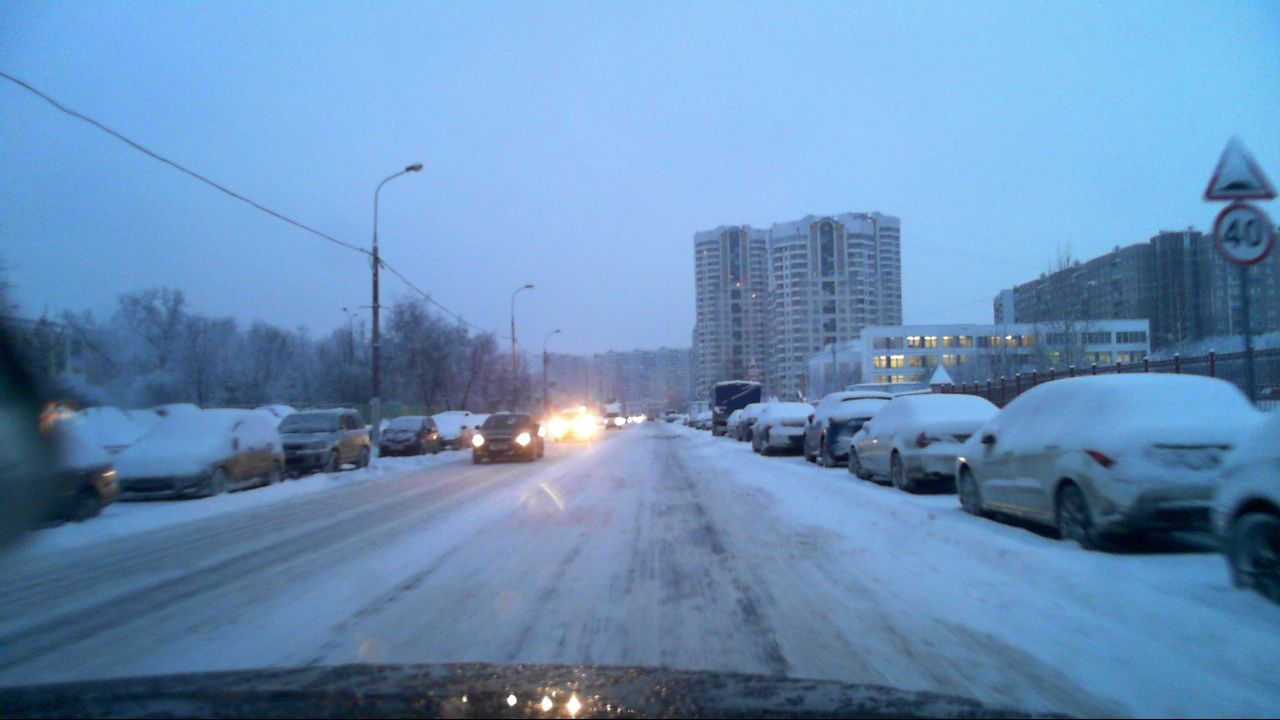speed_warning_40: (1213, 198, 1273, 266)
